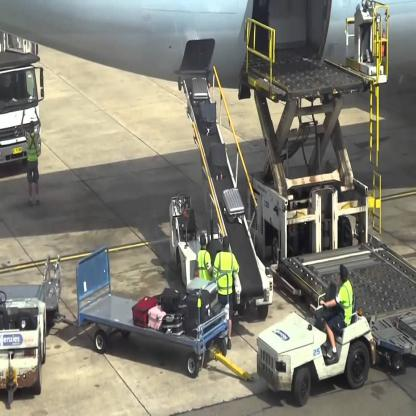baggagetruck: (167, 58, 278, 324)
